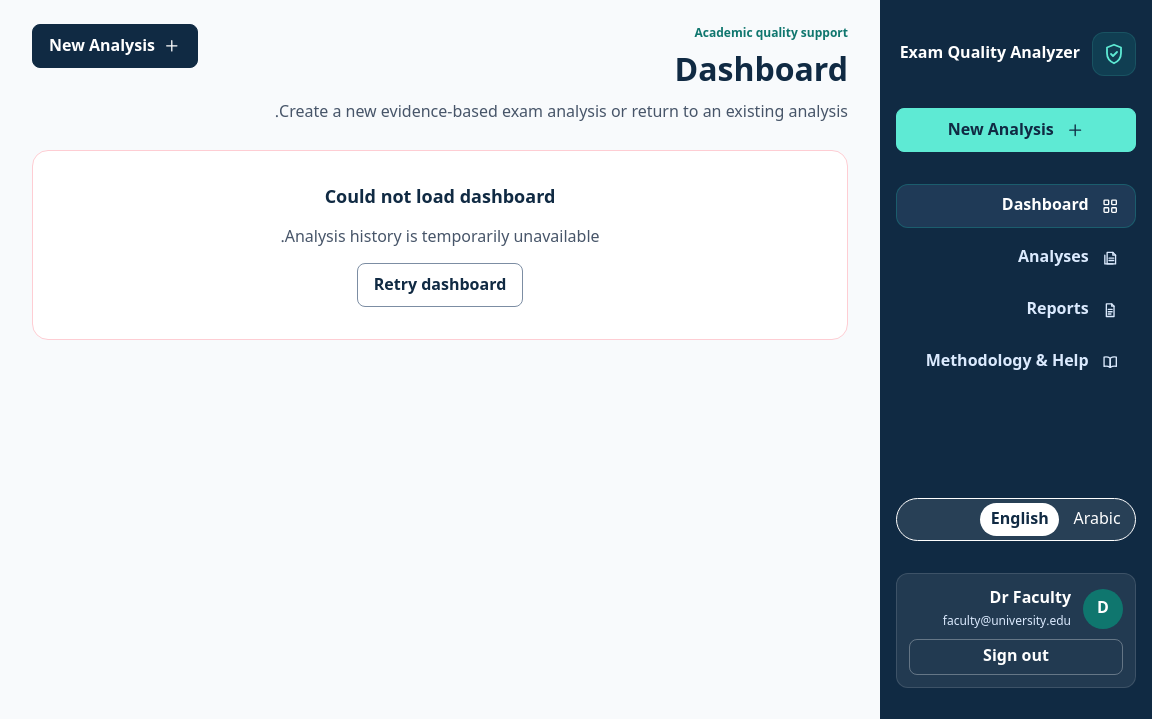
AppRoutes › shows an API-derived dashboard error without requesting metric details
Expected: the text "Analysis history is temporarily unavailable." is shown, [280, 224, 600, 251]
Click the button "Retry dashboard".
click(440, 285)  # box [357, 263, 523, 307]
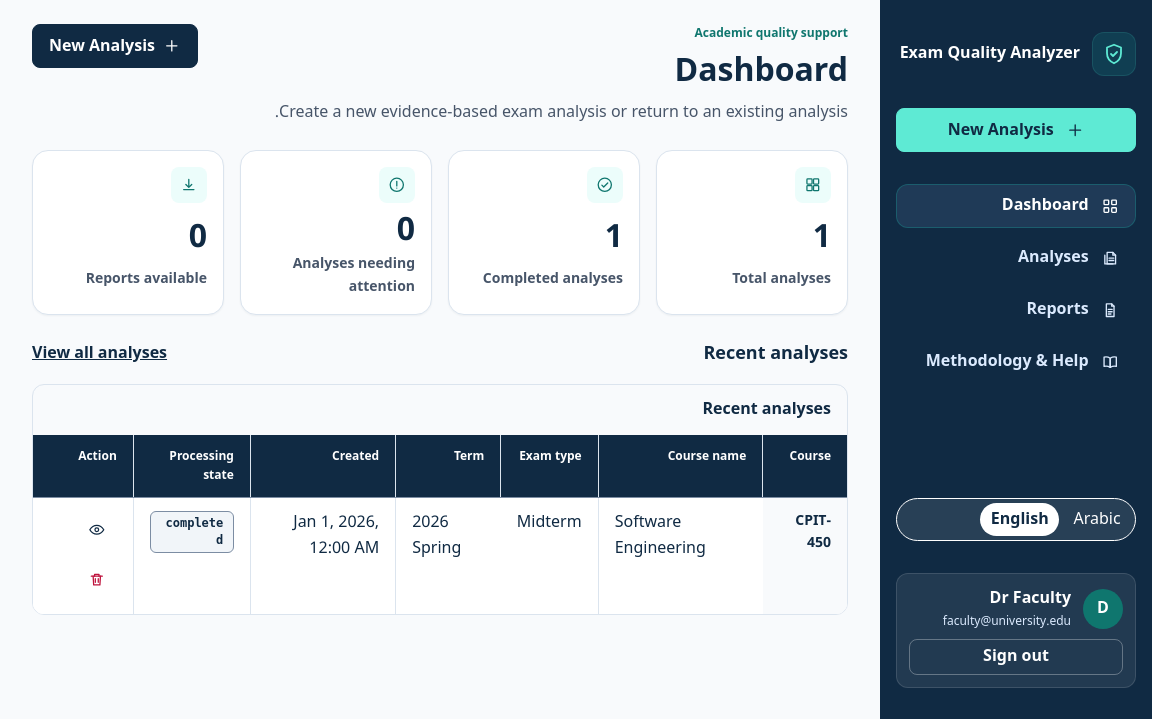
Expected: the heading "Total analyses" is shown, [732, 264, 831, 293]
